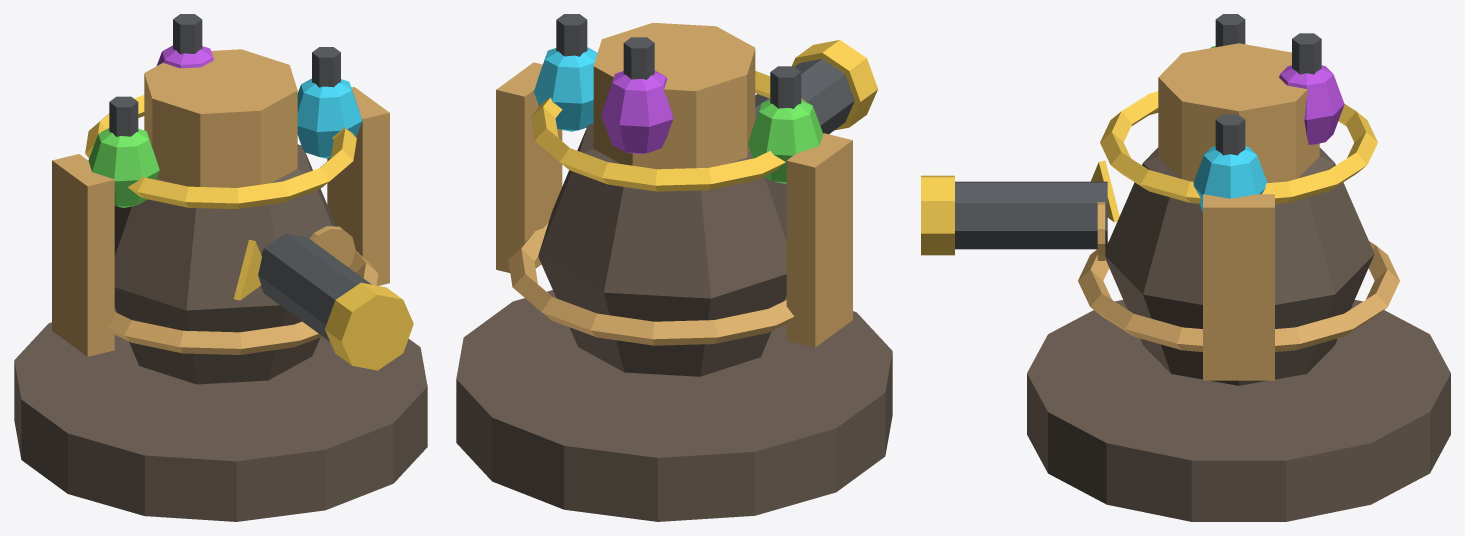
The model's file is TD_AlchemistTower_T2.fbx.
3 views of the same model, side by side, from view 1: azimuth 30°, elevation 25°; view 2: azimuth 150°, elevation 25°; view 3: azimuth 270°, elevation 25° (orthographic). The views are drawn at different scales.
Parts seen in each view (by area): view 1: TD_AlchemistTower_T2_Base, TD_AlchemistTower_T2_Kettle, TD_AlchemistTower_T2_UpperColumn, TD_AlchemistTower_T2_BrassSideFrame_Left, TD_AlchemistTower_T2_BrassSideFrame_Right, TD_AlchemistTower_T2_Nozzle, TD_AlchemistTower_T2_BrassProtectionFrame_Upper, TD_AlchemistTower_T2_Nozzle_GoldTip, TD_AlchemistTower_T2_BrassProtectionFrame_Lower, TD_AlchemistTower_T2_Potion_Blue_01_Body, TD_AlchemistTower_T2_Potion_Green_01_Body, TD_AlchemistTower_T2_Potion_Green_01_Neck (+5 smaller); view 2: TD_AlchemistTower_T2_Base, TD_AlchemistTower_T2_Kettle, TD_AlchemistTower_T2_UpperColumn, TD_AlchemistTower_T2_BrassSideFrame_Left, TD_AlchemistTower_T2_BrassSideFrame_Right, TD_AlchemistTower_T2_BrassProtectionFrame_Lower, TD_AlchemistTower_T2_BrassProtectionFrame_Upper, TD_AlchemistTower_T2_Potion_Purple_01_Body, TD_AlchemistTower_T2_Potion_Blue_01_Body, TD_AlchemistTower_T2_Potion_Green_01_Body, TD_AlchemistTower_T2_Nozzle, TD_AlchemistTower_T2_Nozzle_GoldTip (+3 smaller); view 3: TD_AlchemistTower_T2_Base, TD_AlchemistTower_T2_Kettle, TD_AlchemistTower_T2_UpperColumn, TD_AlchemistTower_T2_BrassSideFrame_Right, TD_AlchemistTower_T2_Nozzle, TD_AlchemistTower_T2_BrassProtectionFrame_Lower, TD_AlchemistTower_T2_BrassProtectionFrame_Upper, TD_AlchemistTower_T2_Potion_Blue_01_Body, TD_AlchemistTower_T2_Potion_Purple_01_Body, TD_AlchemistTower_T2_Nozzle_GoldTip, TD_AlchemistTower_T2_Potion_Blue_01_Neck, TD_AlchemistTower_T2_Potion_Purple_01_Neck (+2 smaller).
Boxes of the visible parts, x1,y1,x2,y2 form: TD_AlchemistTower_T2_Base: (14,307,427,521); TD_AlchemistTower_T2_Kettle: (114,144,349,384); TD_AlchemistTower_T2_UpperColumn: (144,49,297,187); TD_AlchemistTower_T2_BrassSideFrame_Left: (52,154,114,356); TD_AlchemistTower_T2_BrassSideFrame_Right: (327,87,389,285); TD_AlchemistTower_T2_Nozzle: (258,233,371,341); TD_AlchemistTower_T2_BrassProtectionFrame_Upper: (85,95,356,209); TD_AlchemistTower_T2_Nozzle_GoldTip: (325,282,413,370); TD_AlchemistTower_T2_BrassProtectionFrame_Lower: (107,250,378,354); TD_AlchemistTower_T2_Potion_Blue_01_Body: (297,78,362,158); TD_AlchemistTower_T2_Potion_Green_01_Body: (88,128,159,207); TD_AlchemistTower_T2_Potion_Green_01_Neck: (109,96,138,136); TD_AlchemistTower_T2_Base: (456,290,892,521); TD_AlchemistTower_T2_Kettle: (538,123,786,376); TD_AlchemistTower_T2_UpperColumn: (593,22,755,169); TD_AlchemistTower_T2_BrassSideFrame_Left: (786,133,852,347); TD_AlchemistTower_T2_BrassSideFrame_Right: (496,62,562,272); TD_AlchemistTower_T2_BrassProtectionFrame_Lower: (508,223,794,345); TD_AlchemistTower_T2_BrassProtectionFrame_Upper: (531,71,804,191); TD_AlchemistTower_T2_Potion_Purple_01_Body: (601,70,673,154); TD_AlchemistTower_T2_Potion_Blue_01_Body: (534,47,597,131); TD_AlchemistTower_T2_Potion_Green_01_Body: (748,99,823,183); TD_AlchemistTower_T2_Nozzle: (755,59,854,134); TD_AlchemistTower_T2_Nozzle_GoldTip: (792,40,877,130); TD_AlchemistTower_T2_Base: (1027,300,1450,521); TD_AlchemistTower_T2_Kettle: (1105,147,1374,385); TD_AlchemistTower_T2_UpperColumn: (1158,43,1319,182); TD_AlchemistTower_T2_BrassSideFrame_Right: (1203,194,1274,380); TD_AlchemistTower_T2_Nozzle: (955,181,1107,249); TD_AlchemistTower_T2_BrassProtectionFrame_Lower: (1078,241,1399,351); TD_AlchemistTower_T2_BrassProtectionFrame_Upper: (1100,91,1377,203); TD_AlchemistTower_T2_Potion_Blue_01_Body: (1193,146,1267,212); TD_AlchemistTower_T2_Potion_Purple_01_Body: (1279,65,1344,144); TD_AlchemistTower_T2_Nozzle_GoldTip: (921,175,954,255); TD_AlchemistTower_T2_Potion_Blue_01_Neck: (1215,114,1245,155); TD_AlchemistTower_T2_Potion_Purple_01_Neck: (1292,33,1321,74).
Size of the model in its own units: 0.9749 by 1.03 by 1.25.
